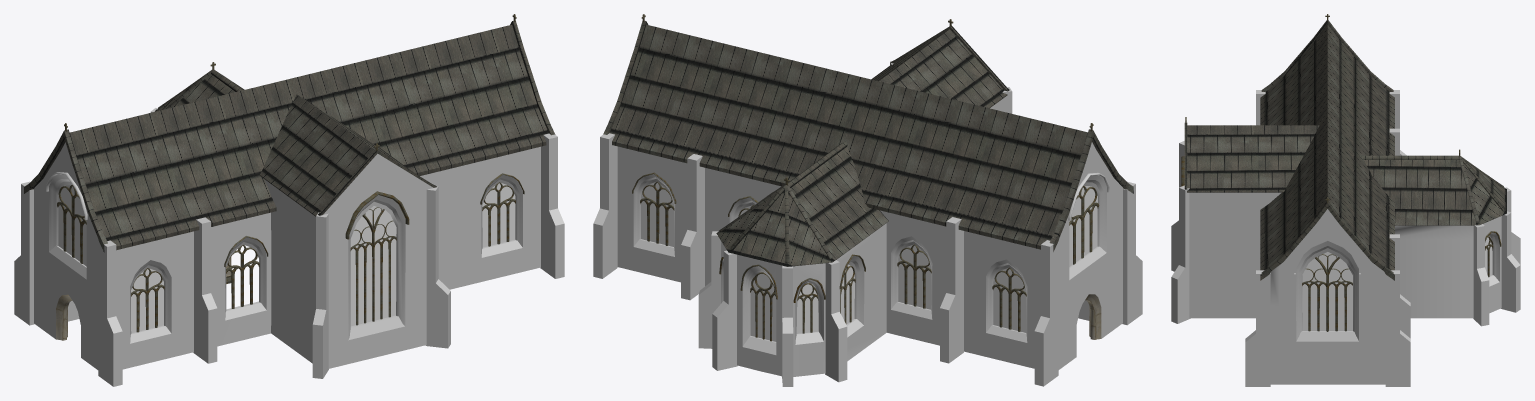
File: BlackfriarsChurchFull.fbx
3 views of the same model, side by side, from view 1: azimuth 30°, elevation 25°; view 2: azimuth 150°, elevation 25°; view 3: azimuth 270°, elevation 25° (orthographic). The views are drawn at different scales.
Visible parts, largest first — view 1: ChurchWalls, STWalls, ChurchButtress, STButtress, Plane.010, SouthWindow.001, Plane.009, NTWalls, Plane.007, Plane.012, ChurchWindows.008, ChurchWindows.006 (+3 smaller); view 2: ChurchWalls, NTWalls, ChurchButtress, NTButtress, STWalls, Plane.005, Plane.004, Plane.003, Plane.012, Plane.013, ChurchWindows.008, Plane.015 (+5 smaller); view 3: ChurchWalls, STWalls, NTWalls, ChurchButtress, NTButtress, Plane.011, STButtress, SouthWindow.000.
Boxes of the visible parts, bbox=[...] form: ChurchWalls: bbox=[24, 20, 555, 369]; STWalls: bbox=[260, 94, 436, 368]; ChurchButtress: bbox=[14, 133, 564, 386]; STButtress: bbox=[312, 186, 450, 378]; Plane.010: bbox=[350, 206, 396, 326]; SouthWindow.001: bbox=[350, 207, 396, 325]; Plane.009: bbox=[482, 183, 515, 247]; NTWalls: bbox=[155, 69, 244, 111]; Plane.007: bbox=[131, 269, 163, 333]; Plane.012: bbox=[58, 185, 86, 266]; ChurchWindows.008: bbox=[57, 185, 86, 263]; ChurchWindows.006: bbox=[226, 245, 259, 308]; ChurchWalls: bbox=[603, 20, 1133, 369]; NTWalls: bbox=[716, 141, 888, 376]; ChurchButtress: bbox=[593, 133, 1142, 386]; NTButtress: bbox=[698, 231, 847, 386]; STWalls: bbox=[871, 25, 1009, 111]; Plane.005: bbox=[993, 268, 1026, 332]; Plane.004: bbox=[898, 244, 931, 309]; Plane.003: bbox=[641, 182, 673, 246]; Plane.012: bbox=[1069, 186, 1097, 266]; Plane.013: bbox=[750, 274, 776, 341]; ChurchWindows.008: bbox=[1069, 186, 1099, 264]; Plane.015: bbox=[796, 282, 818, 333]; ChurchWalls: bbox=[1260, 20, 1394, 384]; STWalls: bbox=[1184, 123, 1319, 318]; NTWalls: bbox=[1361, 155, 1506, 318]; ChurchButtress: bbox=[1245, 90, 1410, 386]; NTButtress: bbox=[1473, 187, 1520, 326]; Plane.011: bbox=[1302, 252, 1352, 330]; STButtress: bbox=[1171, 141, 1190, 323]; SouthWindow.000: bbox=[1302, 254, 1352, 331].
Size of the model in its own units: 3391 by 2719 by 1630.
